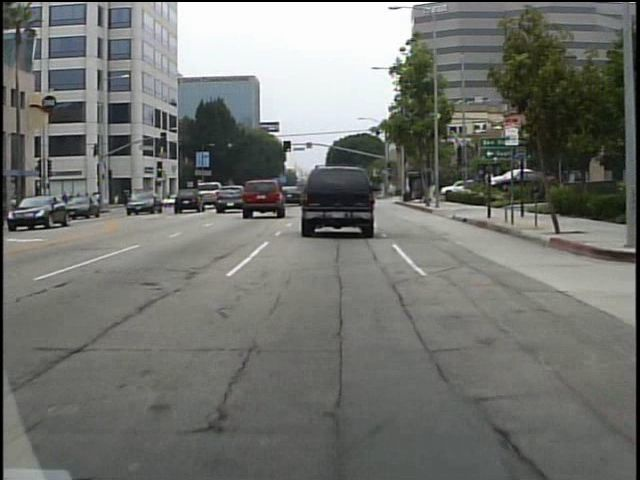person: (135, 186, 146, 208), (386, 181, 397, 201)
